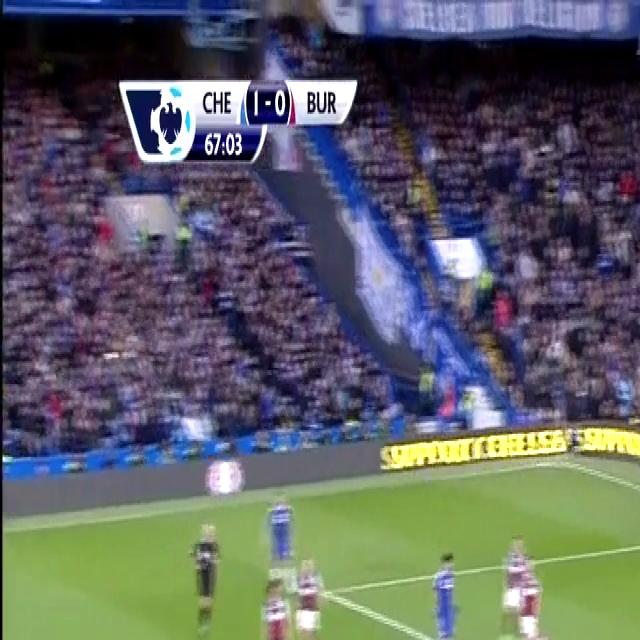referee: (186, 508, 224, 640)
soccer-player: (493, 517, 532, 640), (421, 533, 465, 640), (264, 480, 300, 596), (293, 546, 331, 640), (513, 553, 549, 640), (259, 576, 299, 640), (525, 624, 569, 640), (130, 634, 179, 640)
